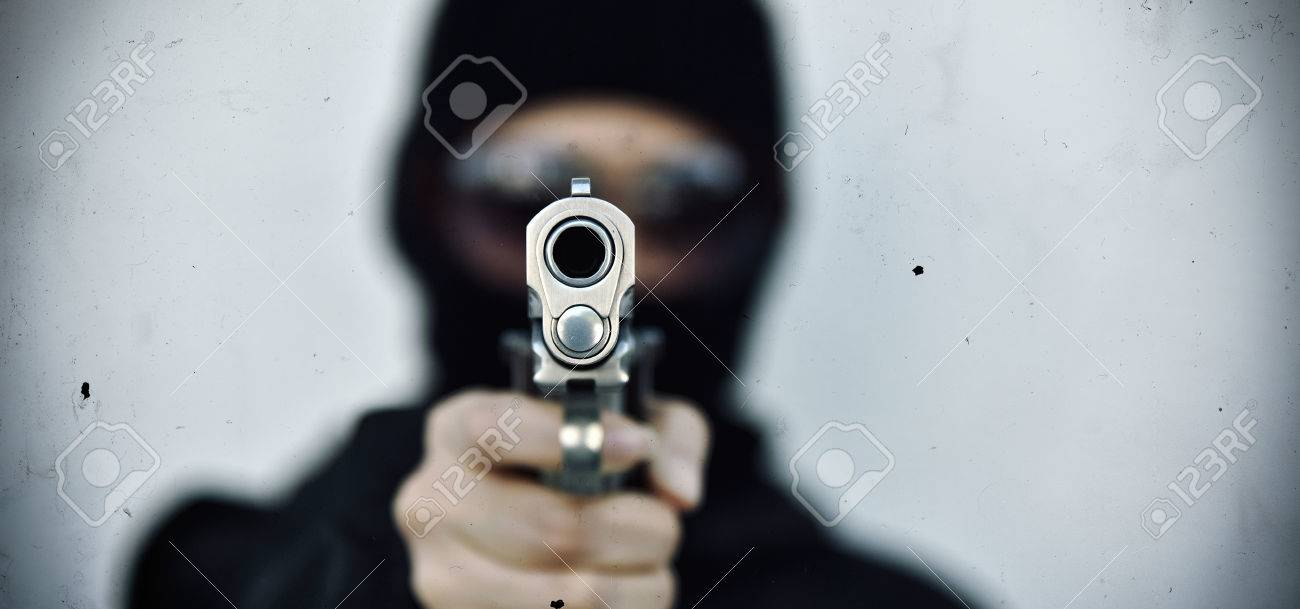pistol: (299, 160, 816, 609)
